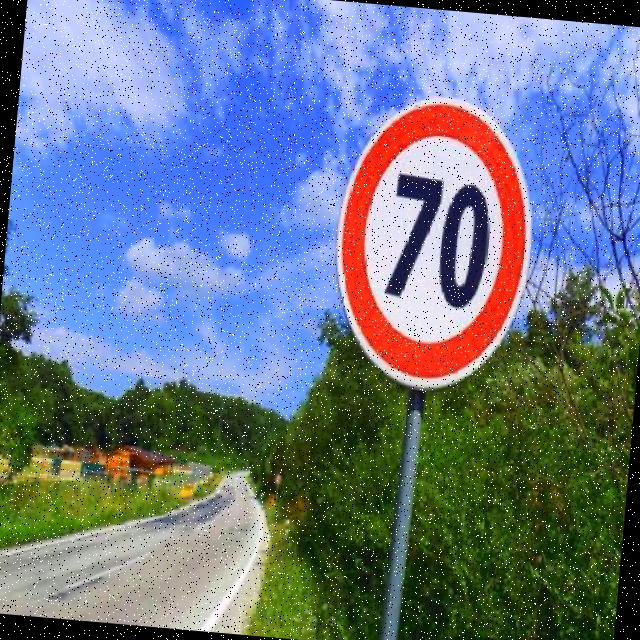Ograniczenie predkosci do 70: (332, 94, 534, 383)
